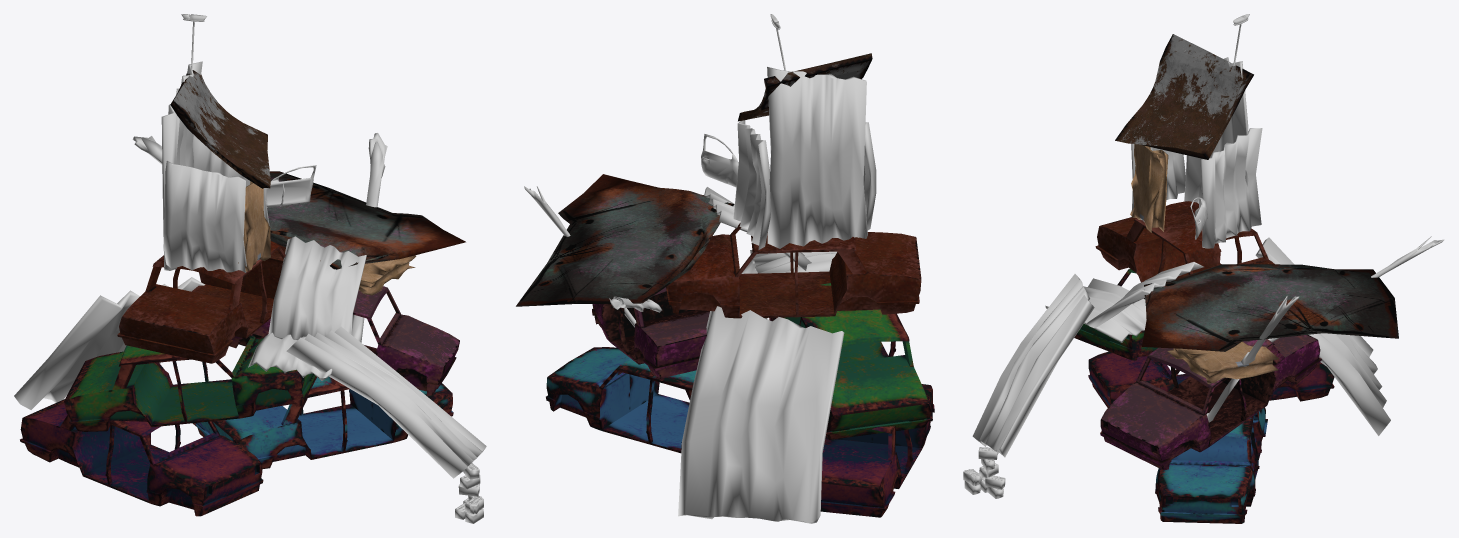
File: vagabondFortress.fbx
3 renders of one model, left to right at view 1: azimuth 30°, elevation 25°; view 2: azimuth 150°, elevation 25°; view 3: azimuth 270°, elevation 25°, orthographic. The views are drawn at different scales.
Visible parts, largest first — view 1: RustedCar01.009, RustedCar01.010, RustedCar01.006, RustedCar01.008, Corrugated Roof.015, metalsheet01.002, Corrugated Roof.002, Corrugated Roof.014, RustedCar01.007, Corrugated Roof.011, metalsheet02, Corrugated Roof.013 (+6 smaller); view 2: Corrugated Roof.011, metalsheet01.002, Corrugated Roof.013, RustedCar01.006, RustedCar01.010, RustedCar01.008, RustedCar01.009, RustedCar01.007, Corrugated Roof.012, metalsheet02, Corrugated Roof.001, Car Door Dani.001 (+3 smaller); view 3: metalsheet01.002, RustedCar01.007, metalsheet02, RustedCar01.008, Corrugated Roof.015, RustedCar01.006, Corrugated Roof.012, Corrugated Roof.011, RustedCar01.009, cardboard.001, cardboard.004, Corrugated Roof.001 (+5 smaller).
Part boxes in pixels (bbox=[...]): RustedCar01.009: bbox=[20, 399, 263, 516]; RustedCar01.010: bbox=[64, 334, 316, 431]; RustedCar01.006: bbox=[117, 241, 285, 363]; RustedCar01.008: bbox=[193, 376, 453, 469]; Corrugated Roof.015: bbox=[286, 326, 486, 478]; metalsheet01.002: bbox=[267, 171, 465, 269]; Corrugated Roof.002: bbox=[163, 161, 246, 272]; Corrugated Roof.014: bbox=[268, 236, 366, 340]; RustedCar01.007: bbox=[229, 286, 459, 395]; Corrugated Roof.011: bbox=[14, 277, 205, 409]; metalsheet02: bbox=[170, 70, 270, 188]; Corrugated Roof.013: bbox=[161, 61, 202, 270]; Corrugated Roof.011: bbox=[678, 306, 844, 523]; metalsheet01.002: bbox=[516, 174, 734, 306]; Corrugated Roof.013: bbox=[767, 67, 867, 248]; RustedCar01.006: bbox=[666, 223, 921, 318]; RustedCar01.010: bbox=[769, 283, 932, 439]; RustedCar01.008: bbox=[546, 347, 696, 453]; RustedCar01.009: bbox=[820, 384, 934, 517]; RustedCar01.007: bbox=[592, 287, 709, 378]; Corrugated Roof.012: bbox=[733, 120, 771, 249]; metalsheet02: bbox=[738, 53, 872, 121]; Corrugated Roof.001: bbox=[750, 250, 836, 273]; Car Door Dani.001: bbox=[701, 134, 738, 187]; metalsheet01.002: bbox=[1142, 264, 1398, 351]; RustedCar01.007: bbox=[1100, 335, 1321, 470]; metalsheet02: bbox=[1115, 34, 1253, 159]; RustedCar01.008: bbox=[1155, 407, 1267, 523]; Corrugated Roof.015: bbox=[972, 274, 1094, 457]; RustedCar01.006: bbox=[1095, 201, 1274, 282]; Corrugated Roof.012: bbox=[1200, 128, 1262, 248]; Corrugated Roof.011: bbox=[1255, 237, 1390, 435]; RustedCar01.009: bbox=[1088, 351, 1334, 407]; cardboard.001: bbox=[1130, 144, 1168, 232]; cardboard.004: bbox=[1167, 341, 1278, 383]; Corrugated Roof.001: bbox=[1045, 278, 1146, 342].
Size of the model in its own units: 1143 by 1310 by 1394.
